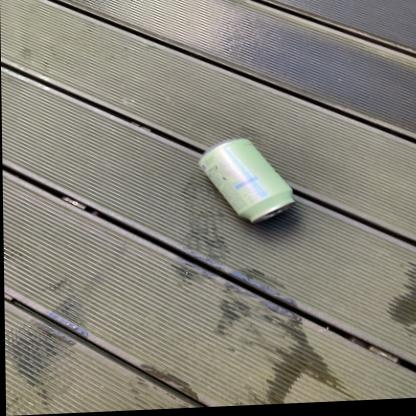trash: (199, 138, 293, 222)
